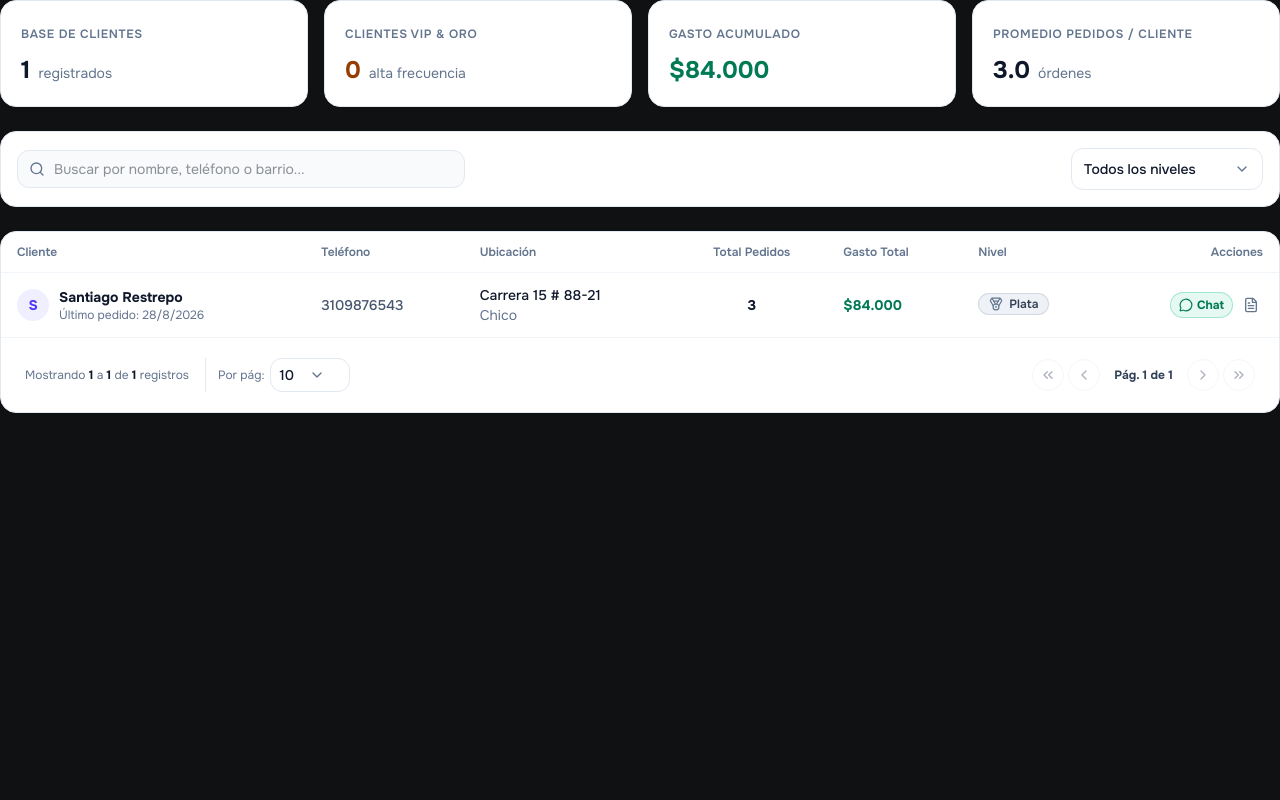
Test: CustomerCRM edit and delete › Financial metrics gating (finance.view) › displays financial metrics and customer spend when user has finance.view
Expected: the text "Gasto Acumulado" is shown, [669,26,801,42]
Expected: the column heading "Gasto Total" is shown, [827,232,962,272]
Customer details modal
Click the button titled "Ficha del cliente": x=1251, y=305 [1239,293,1263,317]
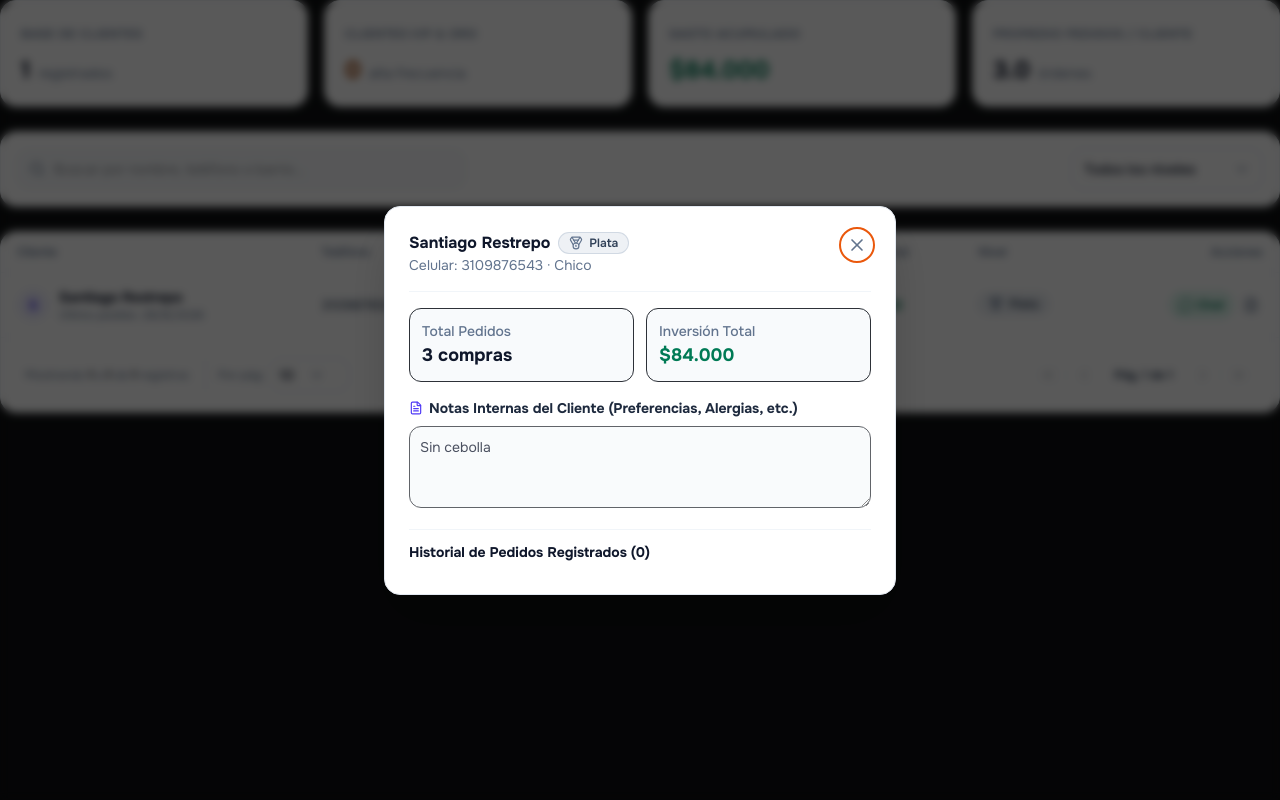
Expected: the text "Inversión Total" is shown, [659,322,755,340]
